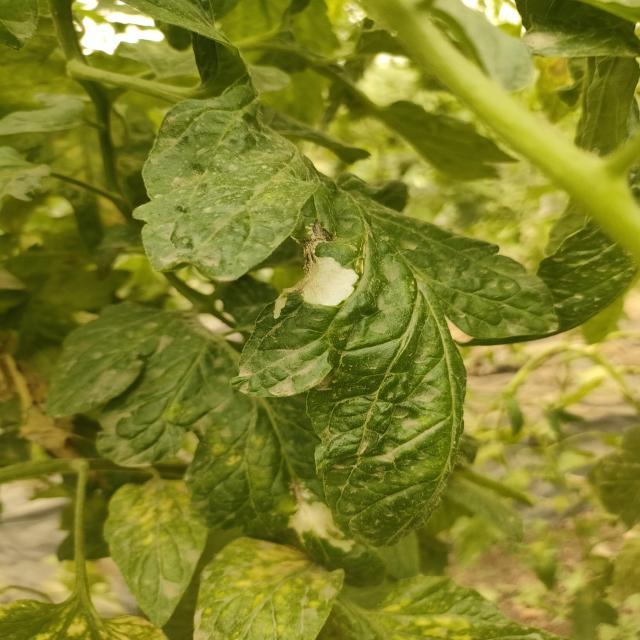Tuta absoluta: (265, 244, 364, 345)
